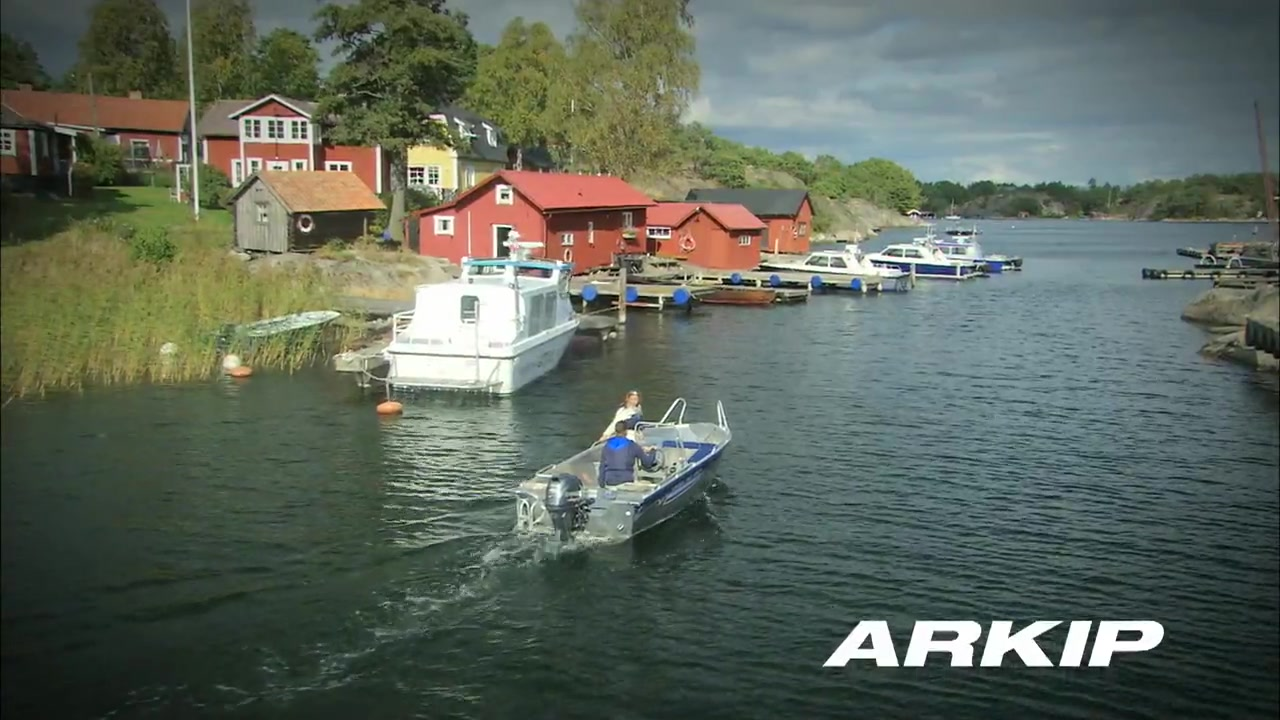boat: (514, 397, 734, 554)
